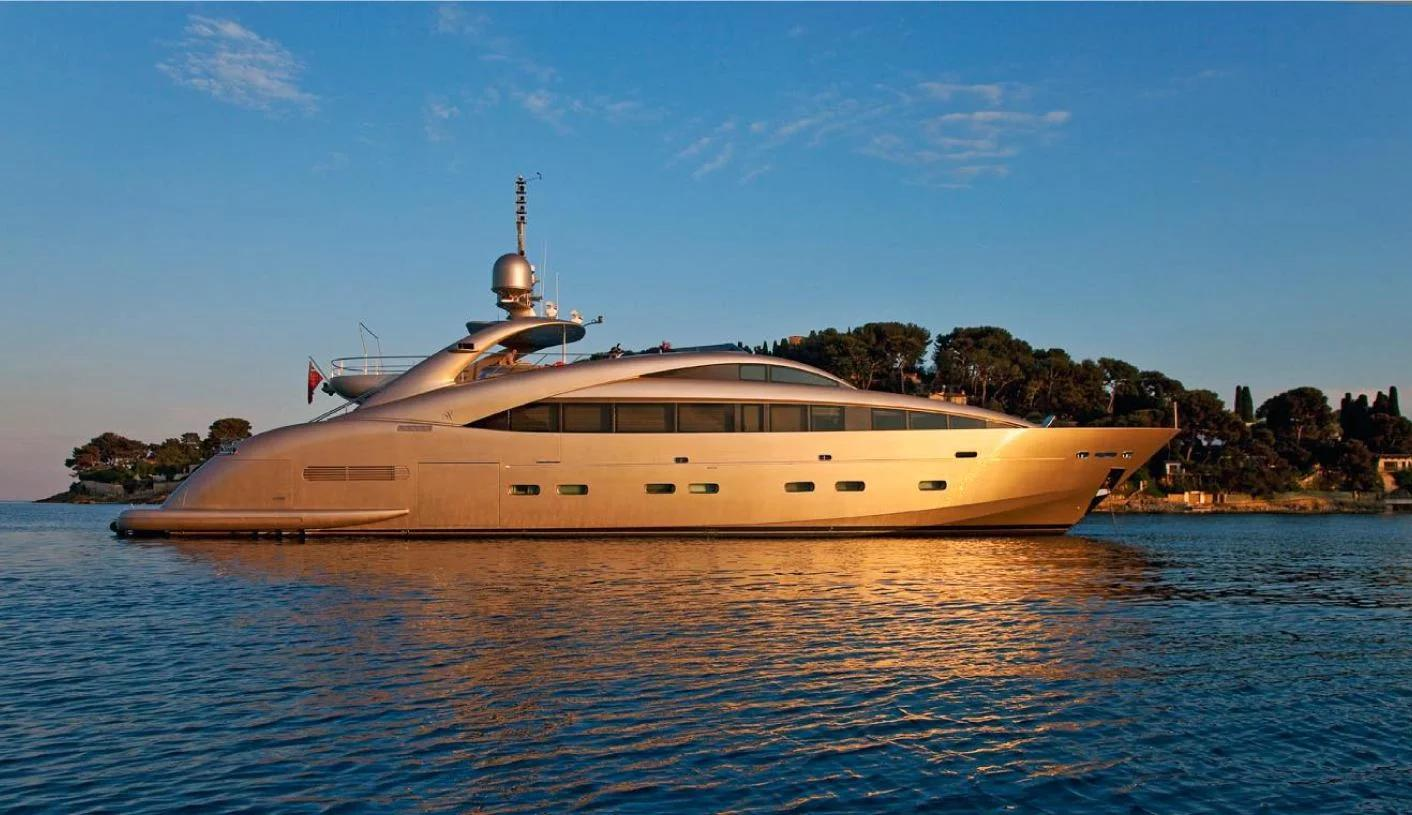yacht: (98, 169, 1211, 546)
